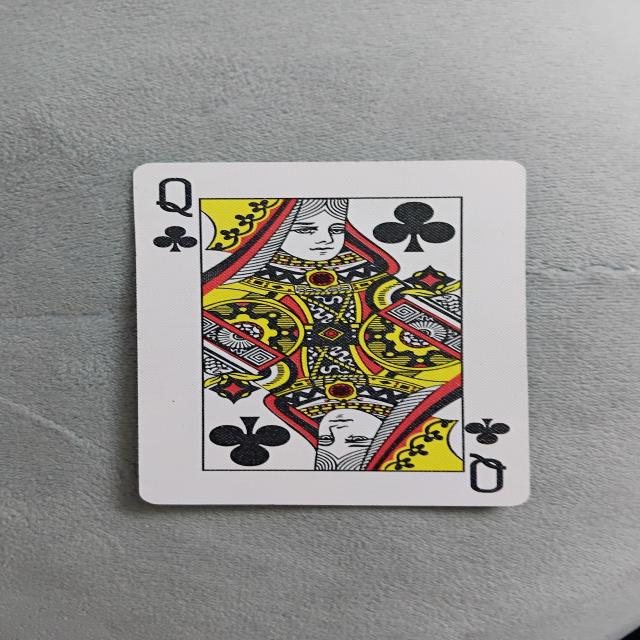QC: (133, 163, 530, 508)
